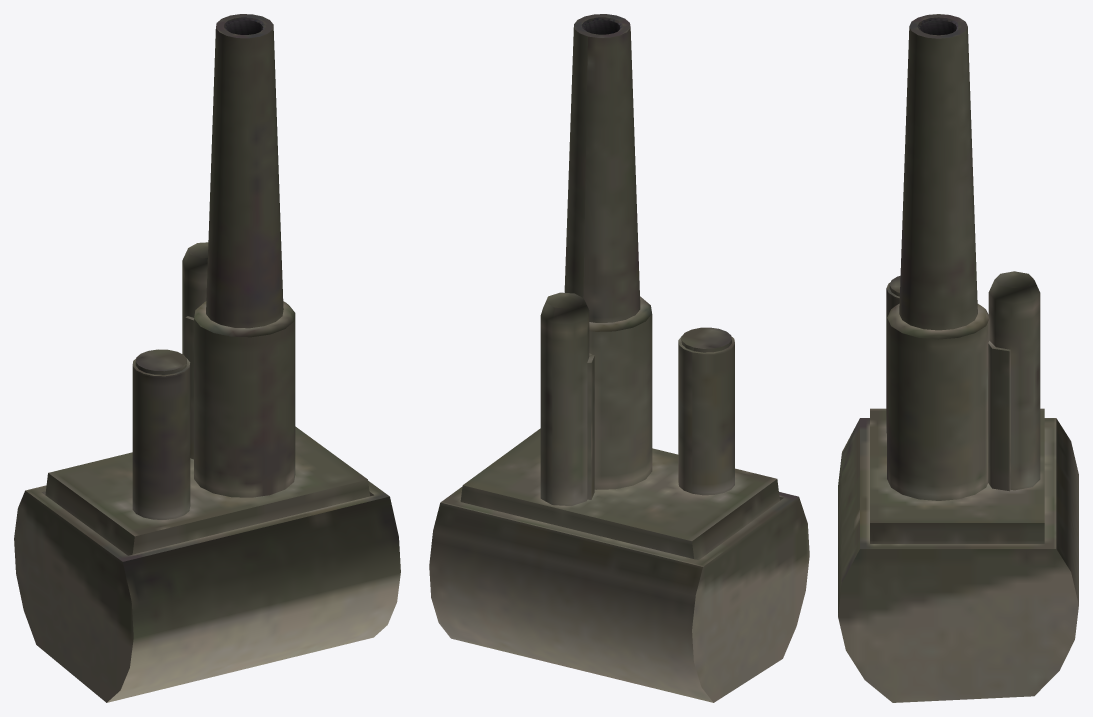
Rendered from Gun_01.glb.
The picture shows the model from 3 angles, left to right: view 1: azimuth 30°, elevation 25°; view 2: azimuth 150°, elevation 25°; view 3: azimuth 270°, elevation 25°; orthographic projection. The views are drawn at different scales.
Parts seen in each view (by area): view 1: set_0_group_0; view 2: set_0_group_0; view 3: set_0_group_0.
Part boxes in pixels (<box>): set_0_group_0: <box>14,14,400,702</box>; set_0_group_0: <box>429,14,809,702</box>; set_0_group_0: <box>838,14,1078,702</box>.
Size of the model in its own units: 0.314 by 0.6969 by 0.2436.
1 material, 1 textured.
